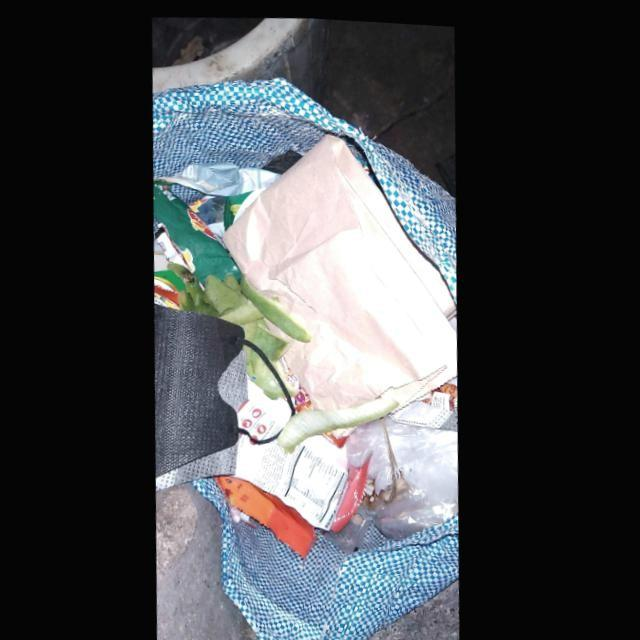food_wrapper: (215, 422, 374, 553), (155, 184, 243, 283)
paper: (224, 127, 461, 406)
